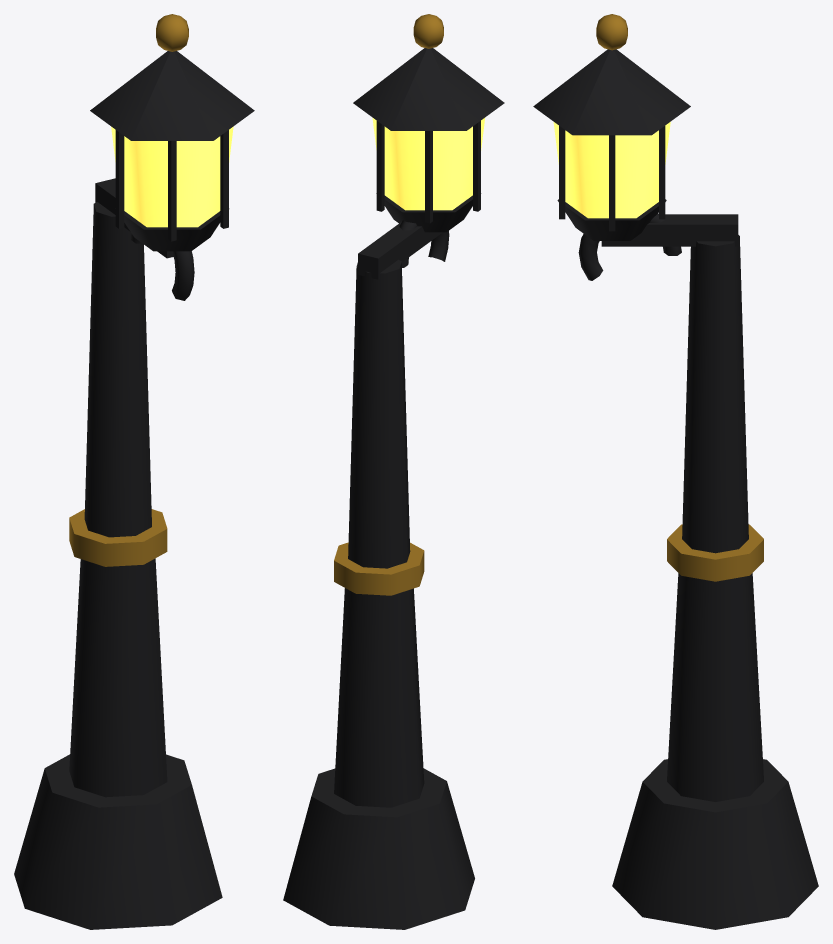
Rendered from saigon_street_lamp.glb.
3 renders of one model, left to right at view 1: azimuth 30°, elevation 25°; view 2: azimuth 150°, elevation 25°; view 3: azimuth 270°, elevation 25°, orthographic. The views are drawn at different scales.
Parts seen in each view (by area): view 1: SaigonStreetLamp_mat0, SaigonStreetLamp_mat1; view 2: SaigonStreetLamp_mat0, SaigonStreetLamp_mat1; view 3: SaigonStreetLamp_mat0, SaigonStreetLamp_mat1.
Part boxes in pixels (<box>): SaigonStreetLamp_mat0: <box>14,14,254,929</box>; SaigonStreetLamp_mat1: <box>111,126,233,227</box>; SaigonStreetLamp_mat0: <box>283,14,504,929</box>; SaigonStreetLamp_mat1: <box>372,117,485,210</box>; SaigonStreetLamp_mat0: <box>533,14,818,929</box>; SaigonStreetLamp_mat1: <box>553,122,670,218</box>.
Bounding box in the file's own units: 0.68 × 3.16 × 0.94.
